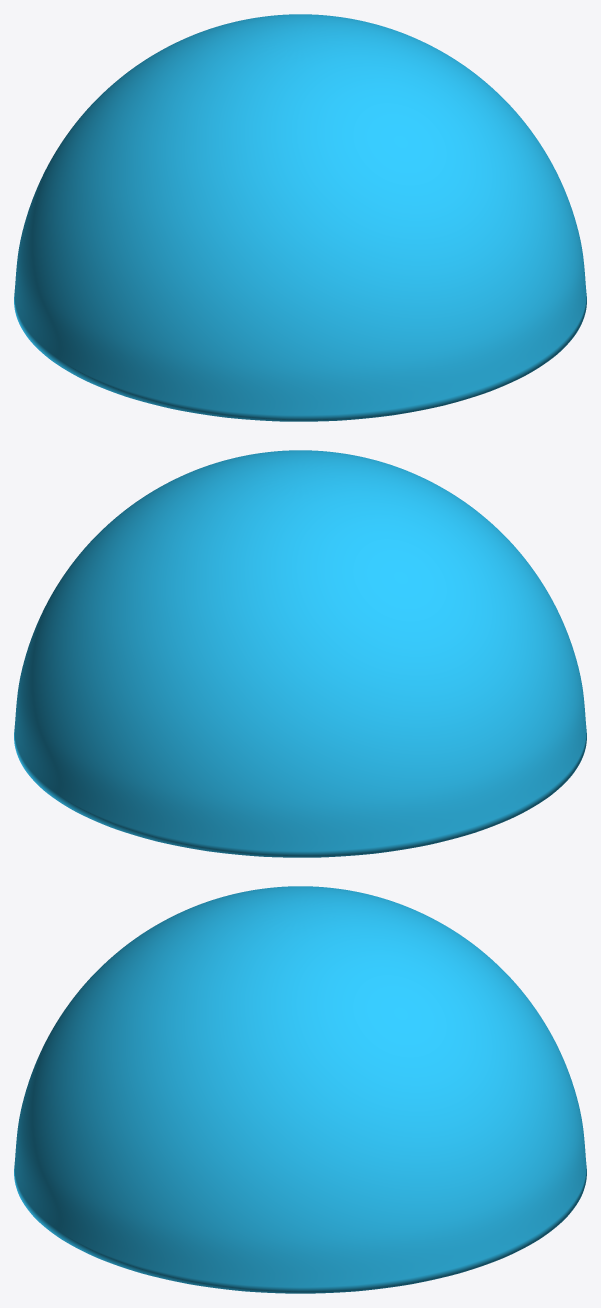
Rendered from betterhalfsphere.fbx.
3 views of the same model, one above another, from view 1: azimuth 30°, elevation 25°; view 2: azimuth 150°, elevation 25°; view 3: azimuth 270°, elevation 25° (orthographic).
Parts seen in each view (by area): view 1: Sphere; view 2: Sphere; view 3: Sphere.
Boxes of the visible parts, <box> form: Sphere: <box>14,14,586,421</box>; Sphere: <box>14,450,586,857</box>; Sphere: <box>14,886,586,1293</box>.
Size of the model in its own units: 200 by 101 by 200.
